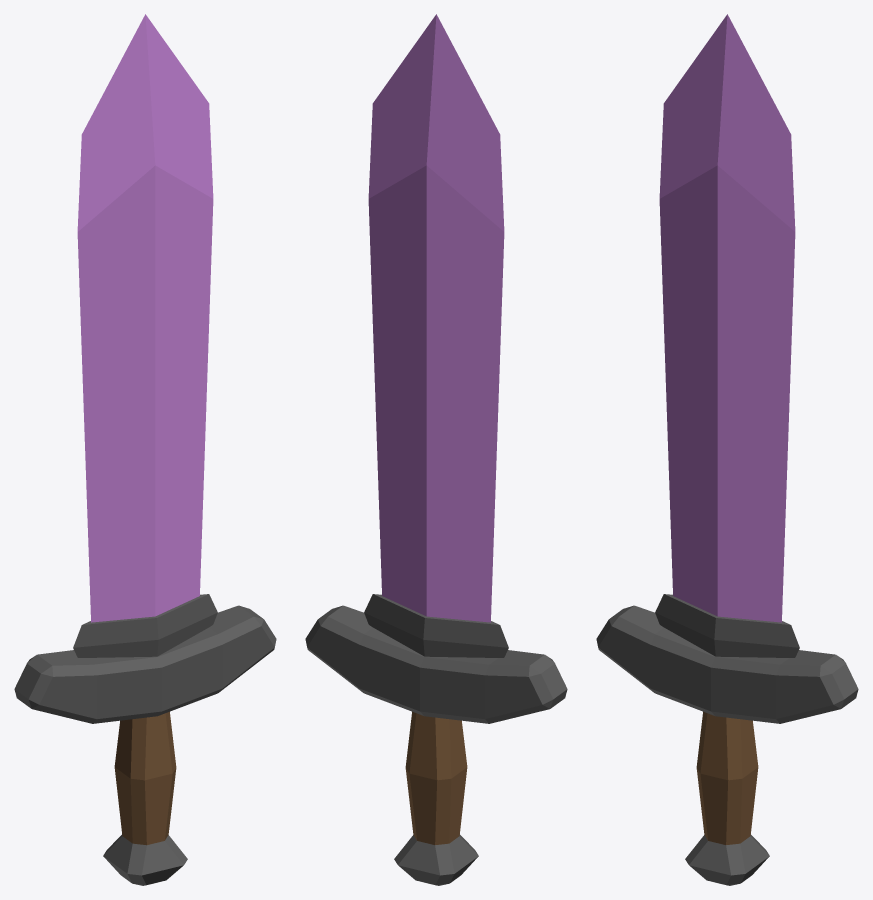
The model's file is drmgrl_sword.fbx.
The picture shows the model from 3 angles, left to right: view 1: azimuth 30°, elevation 25°; view 2: azimuth 150°, elevation 25°; view 3: azimuth 330°, elevation 25°; orthographic projection.
Visible parts, largest first — view 1: Cube.005, Cube.006; view 2: Cube.005, Cube.006; view 3: Cube.005, Cube.006.
Boxes of the visible parts, bbox=[...] form: Cube.005: bbox=[73, 14, 217, 657]; Cube.006: bbox=[14, 605, 276, 885]; Cube.005: bbox=[364, 14, 508, 657]; Cube.006: bbox=[305, 605, 567, 885]; Cube.005: bbox=[655, 14, 799, 657]; Cube.006: bbox=[596, 605, 858, 885].
Bounding box in the file's own units: 113 × 379 × 27.64.
